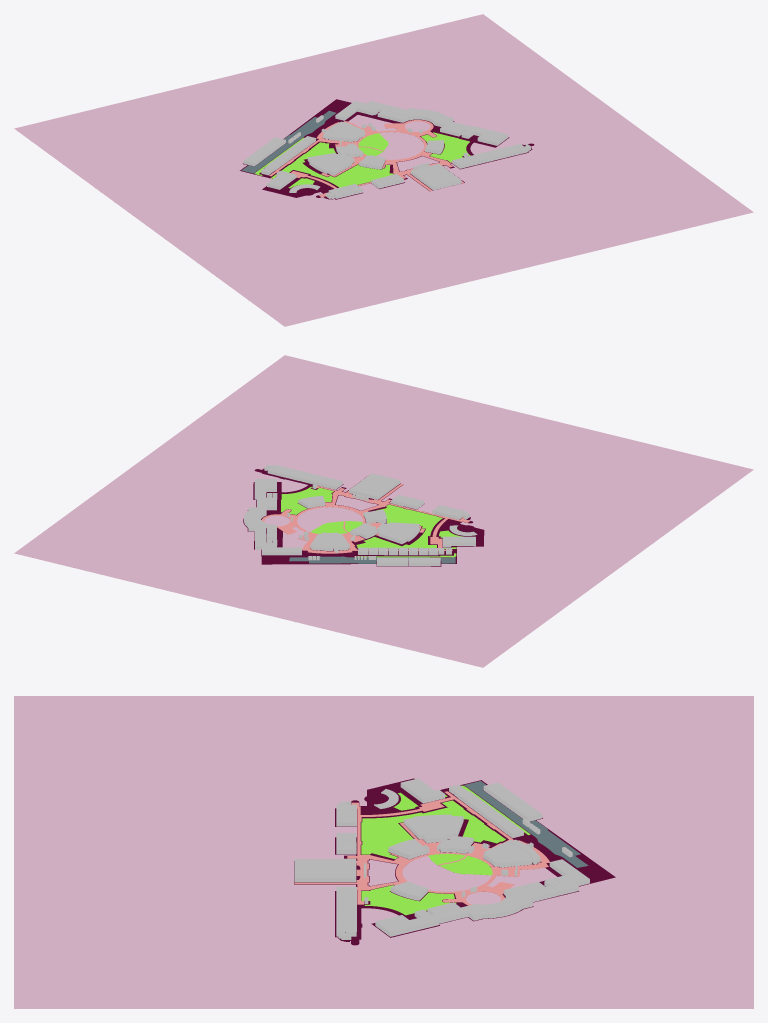
The model's file is njc-l2-v5-30-4.glb.
3 views of the same model, one above another, from view 1: azimuth 30°, elevation 25°; view 2: azimuth 150°, elevation 25°; view 3: azimuth 270°, elevation 25° (orthographic). The views are drawn at different scales.
Visible parts, largest first — view 1: Grey, None, Grass, Base, Foot, Hall, Drive, LT5; view 2: Grey, None, Base, Grass, Foot, Hall, LT5, Drive; view 3: Grey, None, Grass, Base, Foot, Hall, Drive, LT5, LT1.
Boxes of the visible parts, x1,y1,x2,y2 form: Grey: (14,14,753,326); None: (243,100,531,198); Grass: (255,132,470,188); Base: (240,99,534,199); Foot: (269,120,463,197); Hall: (410,163,461,190); Drive: (241,110,336,173); LT5: (307,153,354,175); Grey: (14,355,753,667); None: (244,464,475,566); Base: (243,468,484,566); Grass: (281,487,462,557); Foot: (261,483,469,553); Hall: (349,473,400,499); LT5: (376,522,419,544); Drive: (289,556,455,563); Grey: (14,696,753,1008); None: (336,778,589,939); Grass: (361,785,530,915); Base: (294,778,615,945); Foot: (294,791,549,905); Hall: (294,859,356,882); Drive: (462,781,588,867); LT5: (403,814,463,843); LT1: (483,841,532,867).
Size of the model in its own units: 30 by 0.205 by 30.
